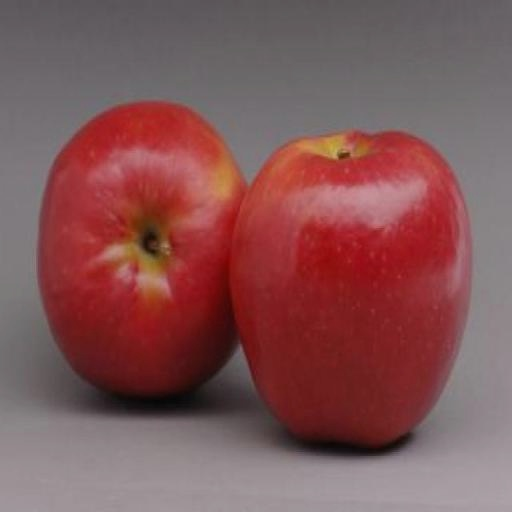fruit: (230, 132, 471, 446), (38, 103, 243, 396)
